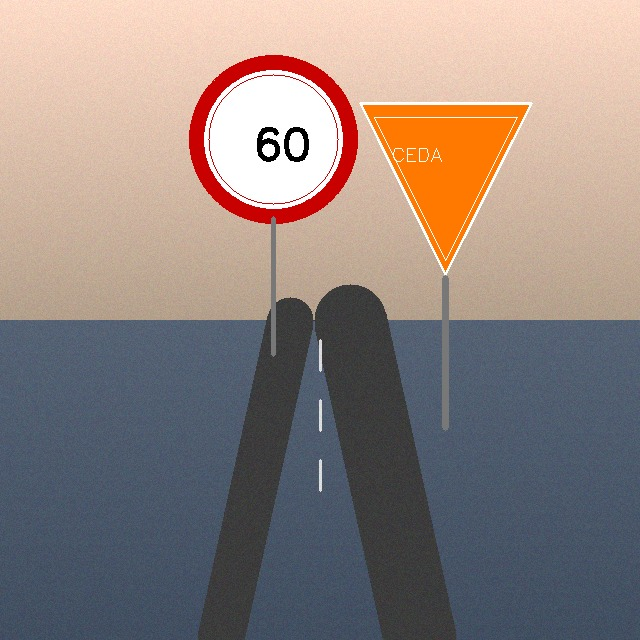ceda_el_paso: (356, 99, 535, 278)
velocidad: (194, 60, 352, 218)
